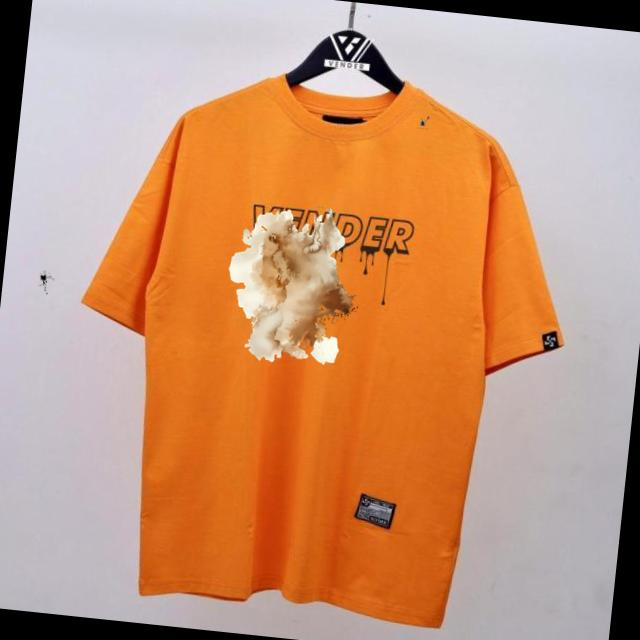stain: (222, 201, 362, 373), (412, 108, 440, 138)
